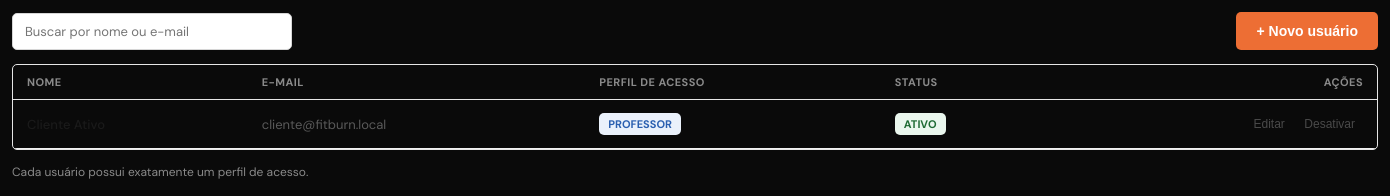
Test case: UsersPage › desativa e reativa um usuário a partir da lista
This screenshot has width=1390, height=196.
Click the button "Desativar" at [1330, 124], box left=1296, top=112, right=1363, bottom=136
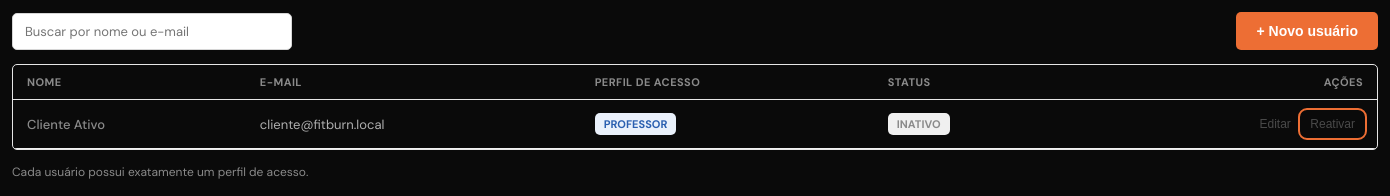
Result: the button "Reativar" is shown
Click the button "Reativar" at [1333, 124], box left=1302, top=112, right=1363, bottom=136
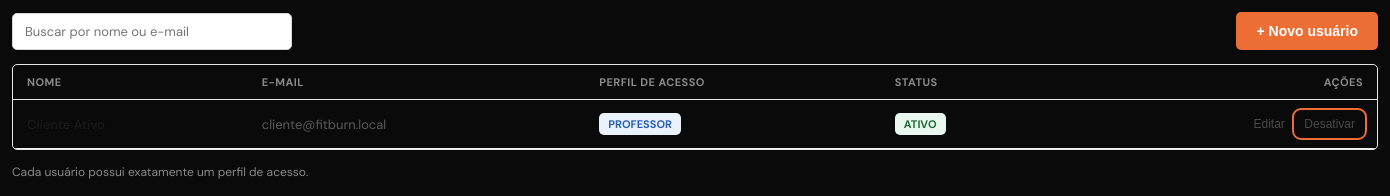
Result: the button "Desativar" is shown at left=1296, top=112, right=1363, bottom=136
